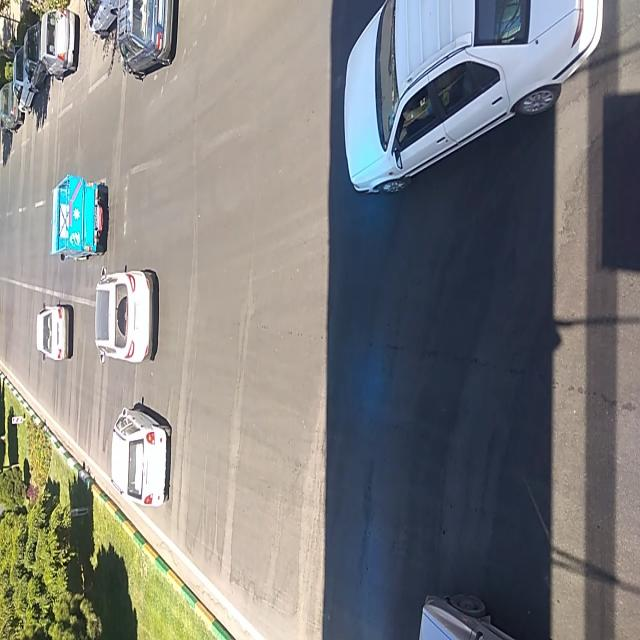car: (343, 2, 603, 201), (96, 265, 156, 366), (112, 406, 172, 506), (47, 175, 108, 262), (114, 3, 174, 79), (41, 11, 78, 80), (36, 304, 70, 366)
